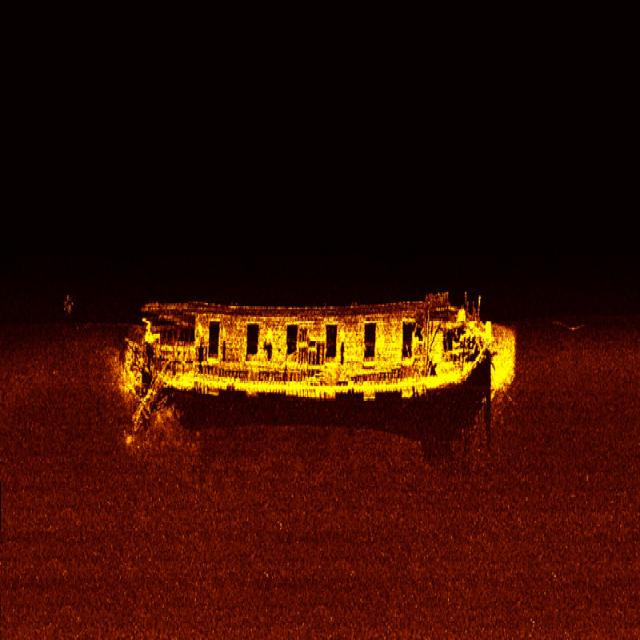ship: (126, 289, 516, 423)
